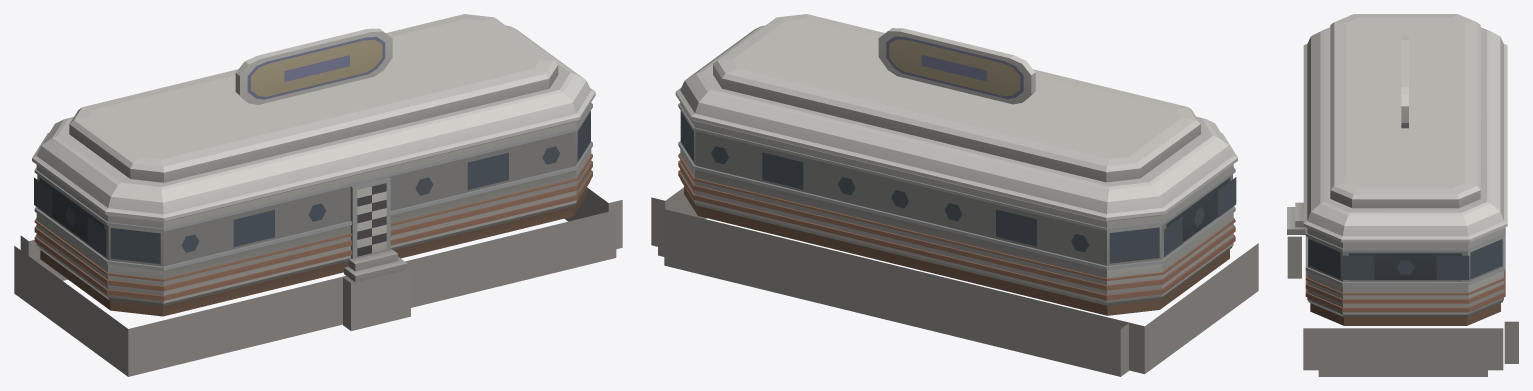
Rendered from diner.lod2.glb.
The picture shows the model from 3 angles, left to right: view 1: azimuth 30°, elevation 25°; view 2: azimuth 150°, elevation 25°; view 3: azimuth 270°, elevation 25°; orthographic projection. The views are drawn at different scales.
Bounding box in the file's own units: 16.5 × 7.22 × 7.48.
